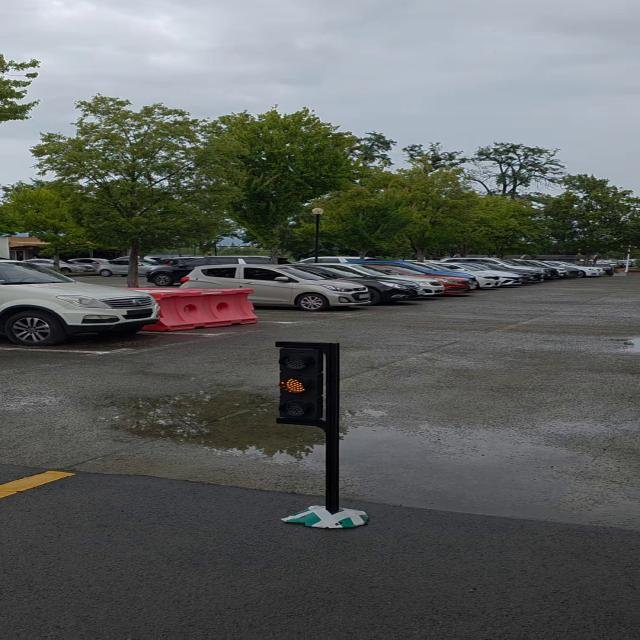yellow: (277, 346, 327, 425)
